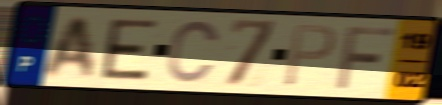7: (224, 18, 279, 90)
A: (40, 14, 98, 80)
C: (165, 18, 223, 85)
E: (99, 17, 161, 83)
F: (334, 24, 398, 92)
P: (281, 23, 339, 89)
